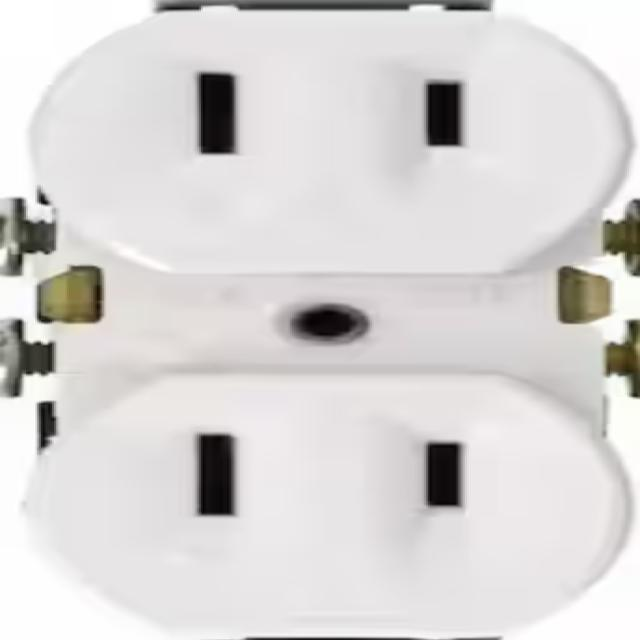type_a: (33, 17, 629, 640), (25, 368, 627, 640), (29, 17, 617, 274)
